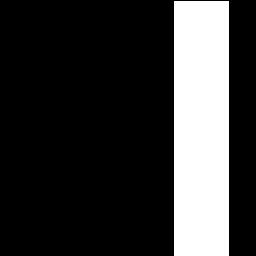person: (174, 1, 228, 256)
